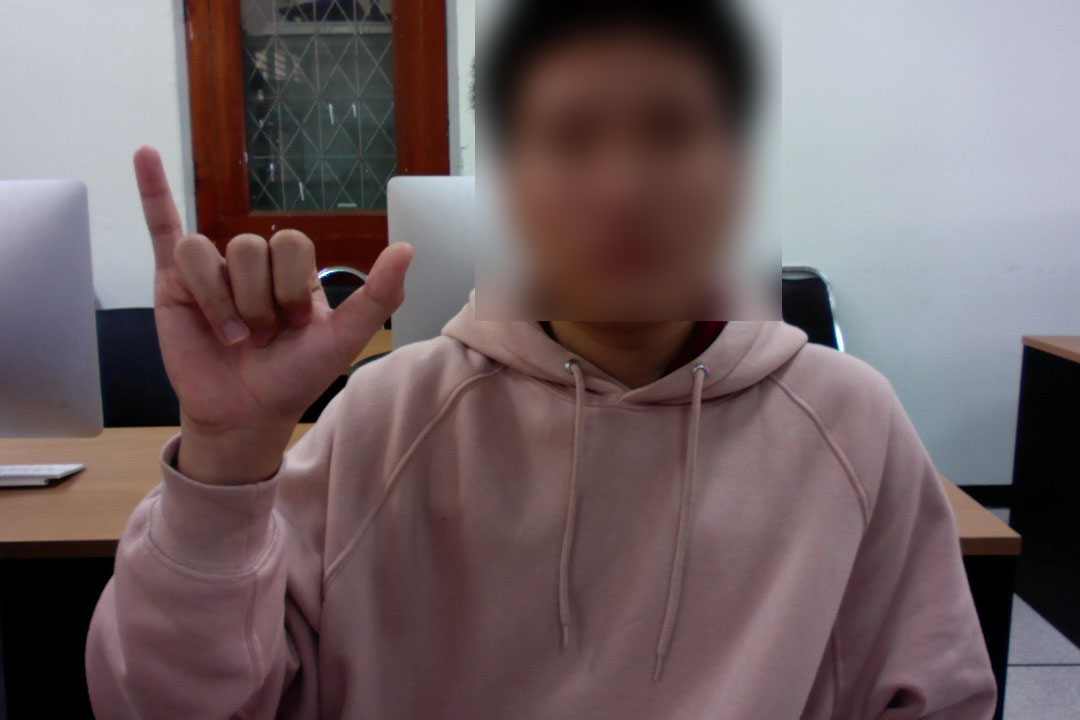yor: (116, 136, 424, 439)
